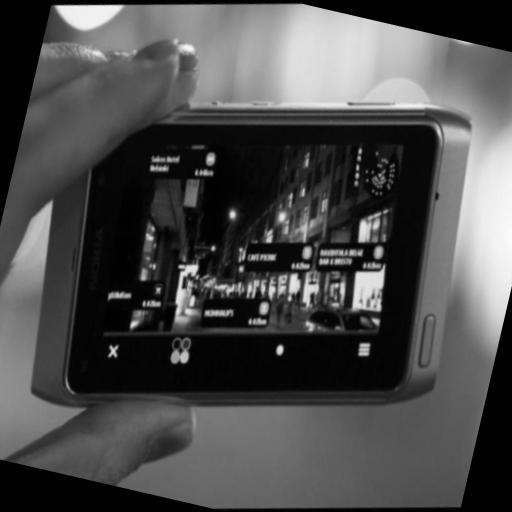phone: (32, 102, 486, 409)
